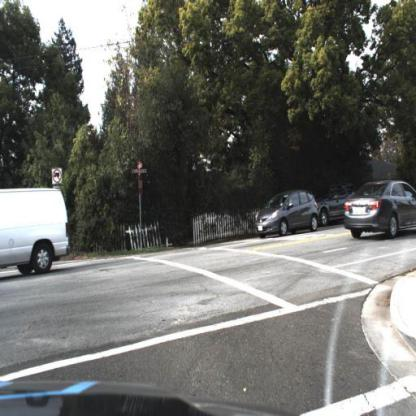car: (1, 189, 72, 278), (346, 180, 416, 243), (257, 187, 319, 240), (319, 179, 348, 229)
